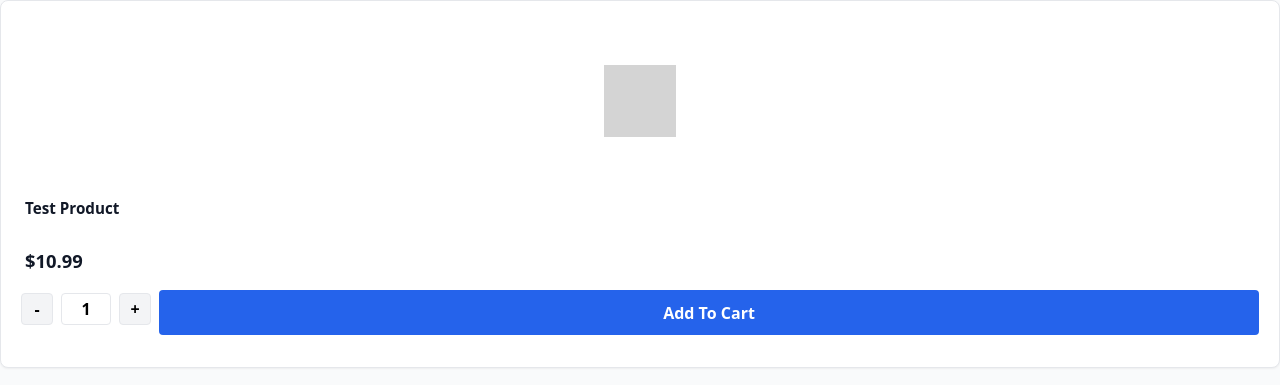
ProductCard Component › increments quantity when + button is clicked
The image size is (1280, 385).
Expected: the number field holds "1", [61,293,111,325]
Click the button named "increase quantity" at (135, 309), box [119,293,151,325]
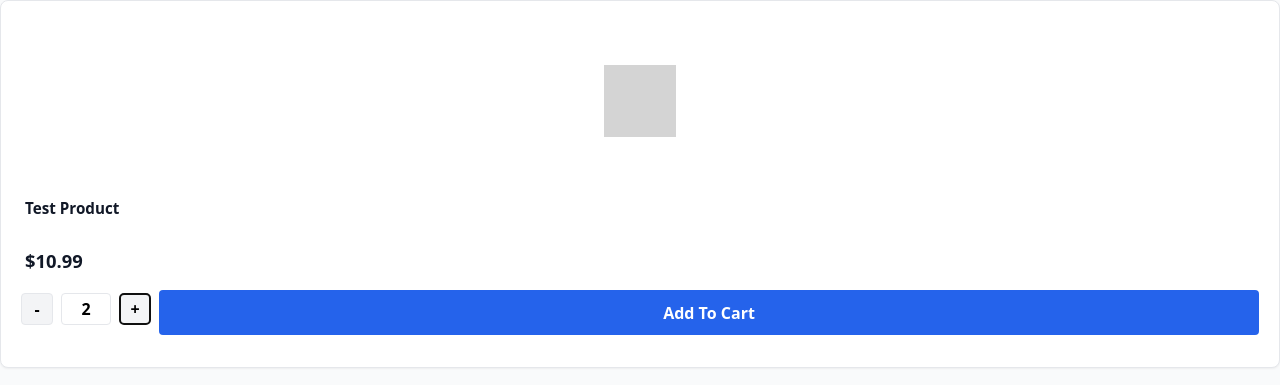
Expected: the number field holds "2", [61,293,111,325]
